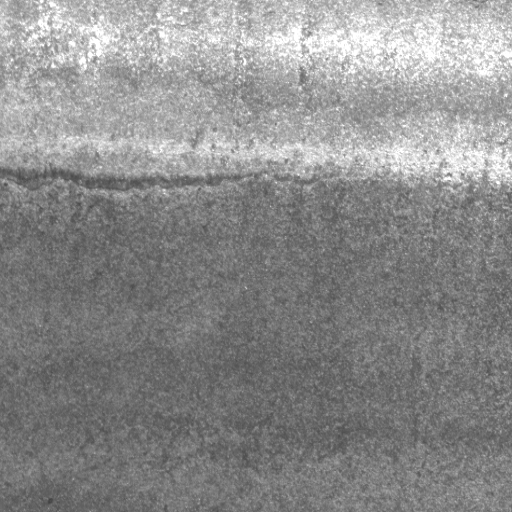hengxiangliewen: (1, 160, 276, 195)
